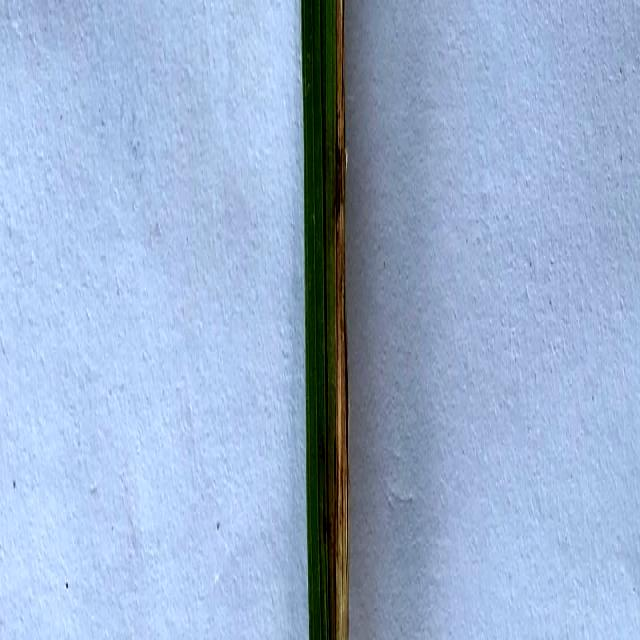BLB: (321, 0, 349, 639)
